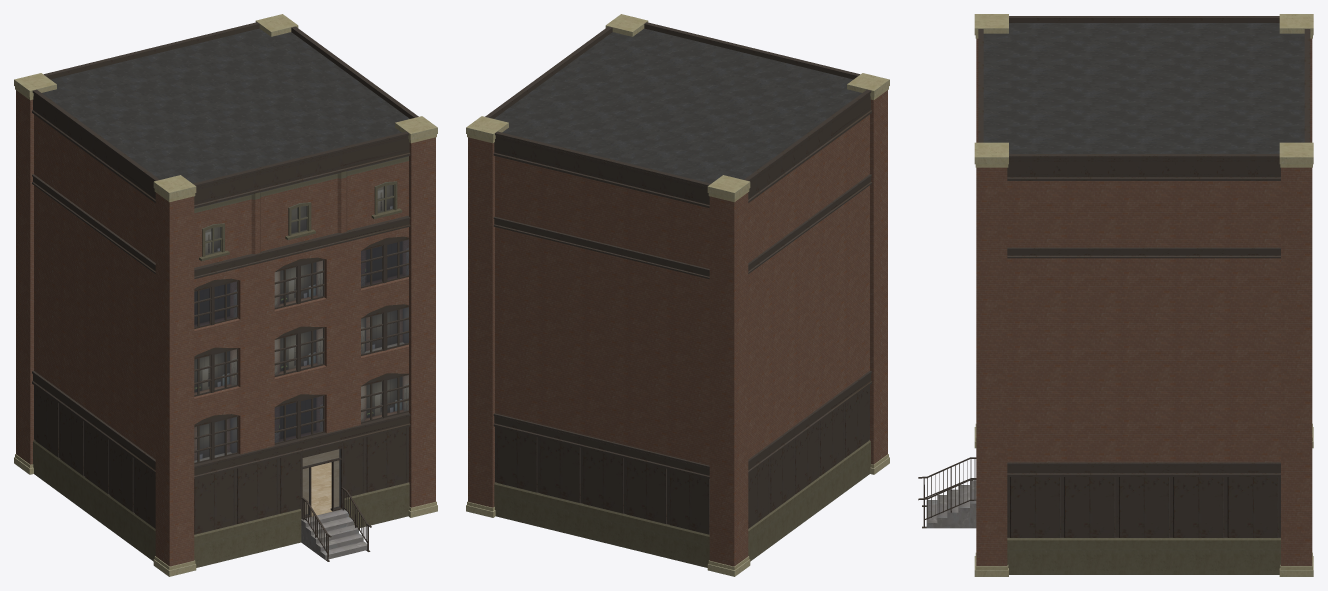
Rendered from brownstone.glb.
3 renders of one model, left to right at view 1: azimuth 30°, elevation 25°; view 2: azimuth 150°, elevation 25°; view 3: azimuth 270°, elevation 25°, orthographic. The views are drawn at different scales.
Visible parts, largest first — view 1: Building_Small_1; view 2: Building_Small_1; view 3: Building_Small_1.
Part boxes in pixels (x1,y1,x2,y2): Building_Small_1: [14, 14, 437, 576]; Building_Small_1: [466, 14, 889, 576]; Building_Small_1: [918, 14, 1313, 576].
Size of the model in its own units: 16.61 by 22.7 by 19.38.
Materials: 11 (10 with a texture image).
